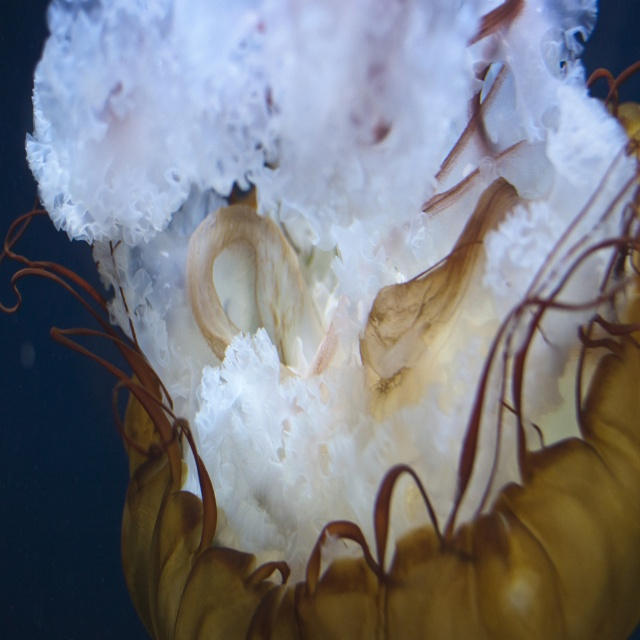Jellyfish: (56, 22, 640, 640)
